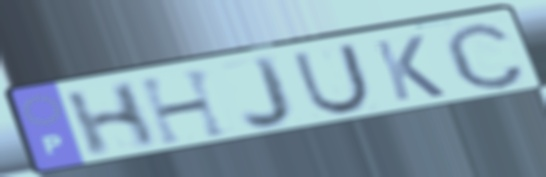C: (440, 19, 530, 92)
H: (134, 65, 234, 148), (61, 78, 161, 160)
J: (239, 54, 298, 132)
K: (370, 32, 450, 104)
U: (289, 40, 375, 118)
